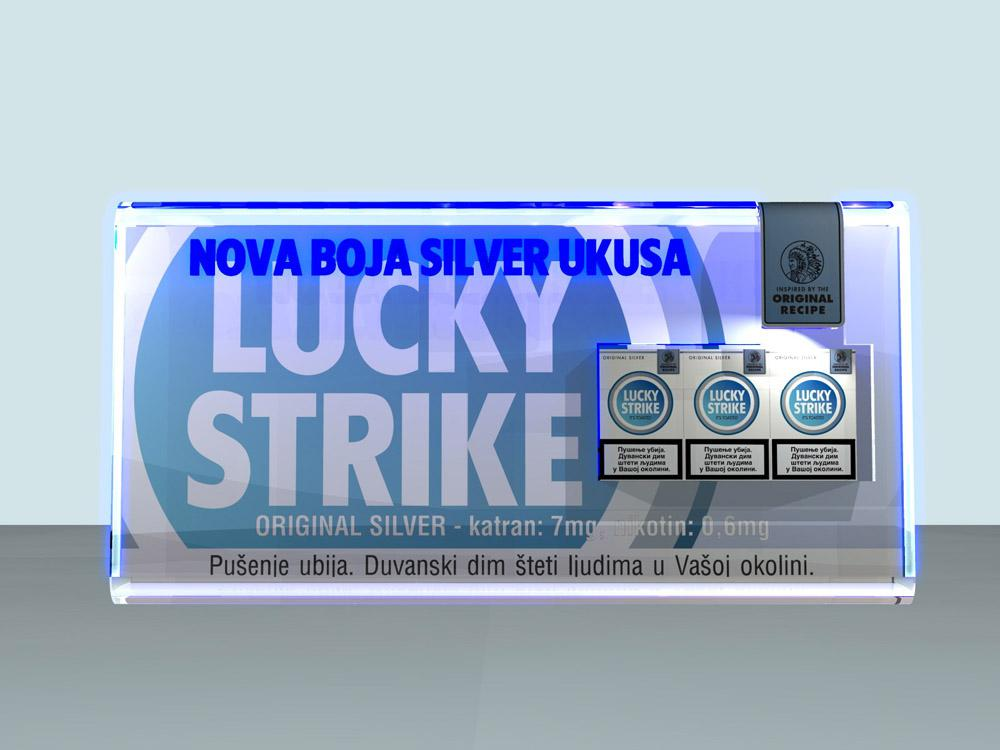lucky_strike_blue: (682, 350, 775, 481), (598, 350, 679, 481), (770, 357, 851, 481)
